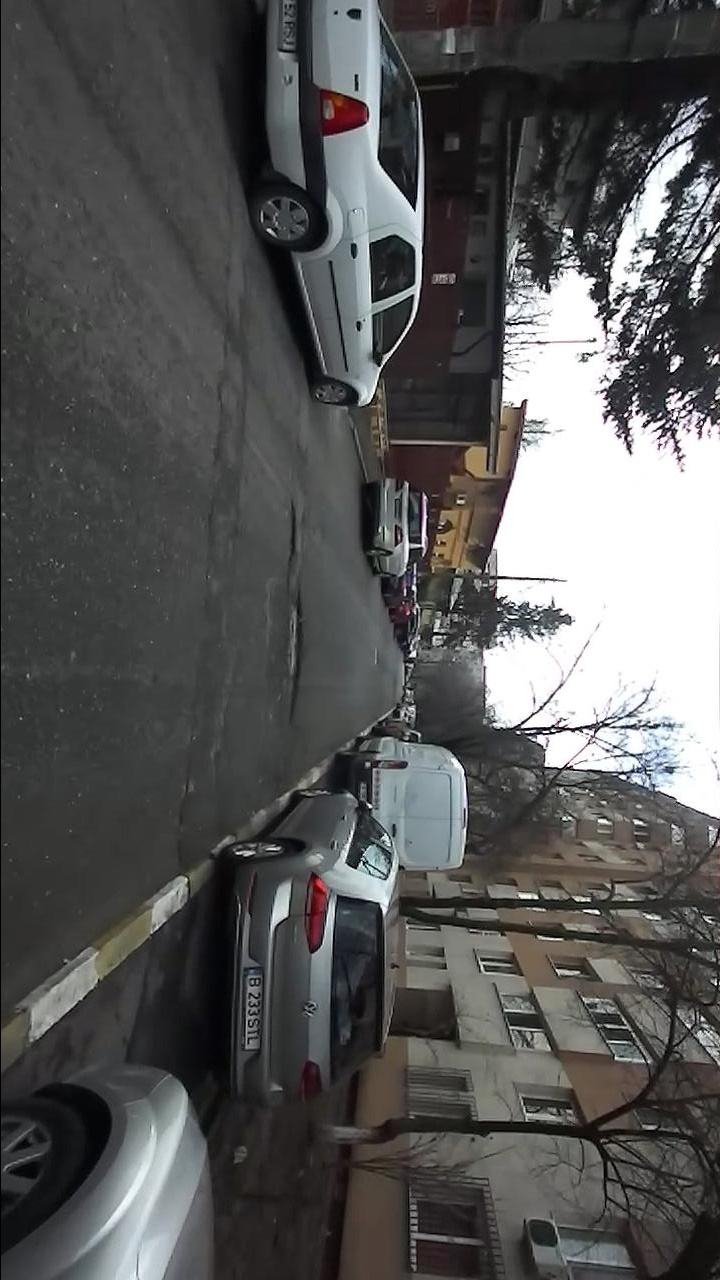pothole: (283, 585, 307, 726), (171, 759, 194, 860), (286, 496, 300, 567)
